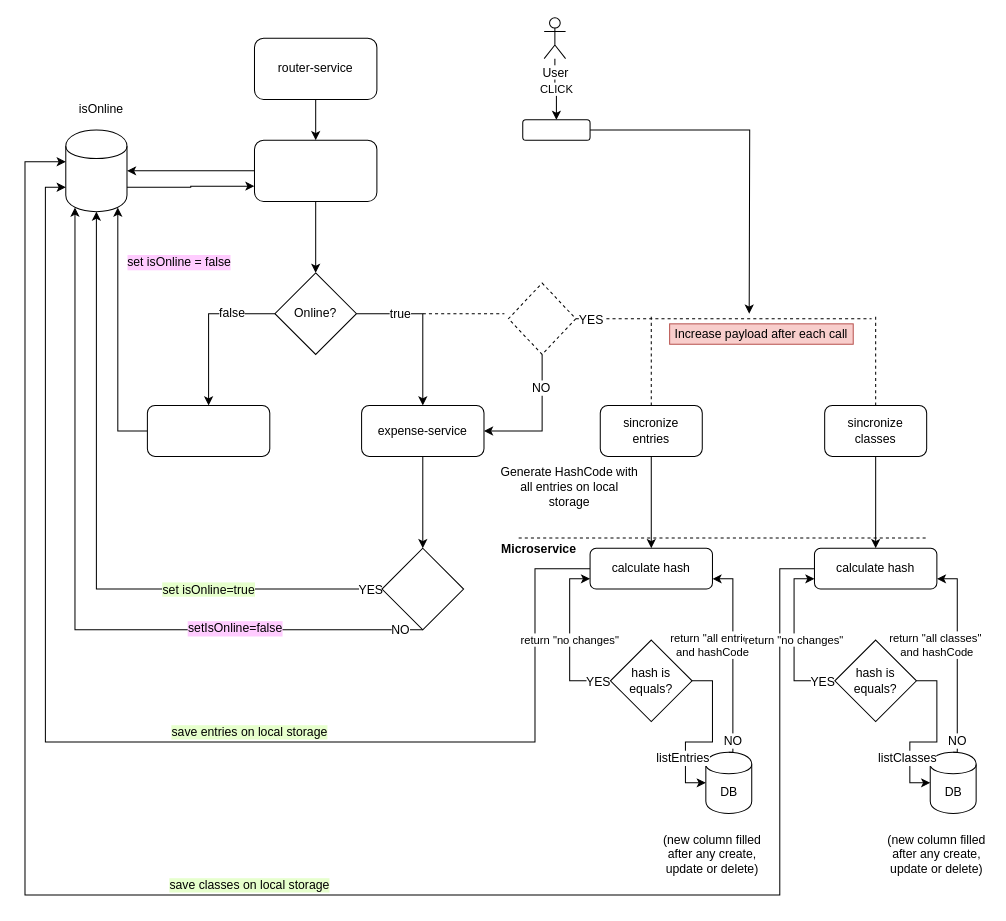
This 1006x921 diagram has some shape labels left out. Each missing label, with the centre of its shape:
"chek isOnline" goes at (315,170).
"Conect" goes at (556,129).
"fake-service" goes at (208,430).
"is any post, put or delete?" goes at (541,318).
"Local Storage" goes at (96,170).
"Response?" goes at (422,588).
